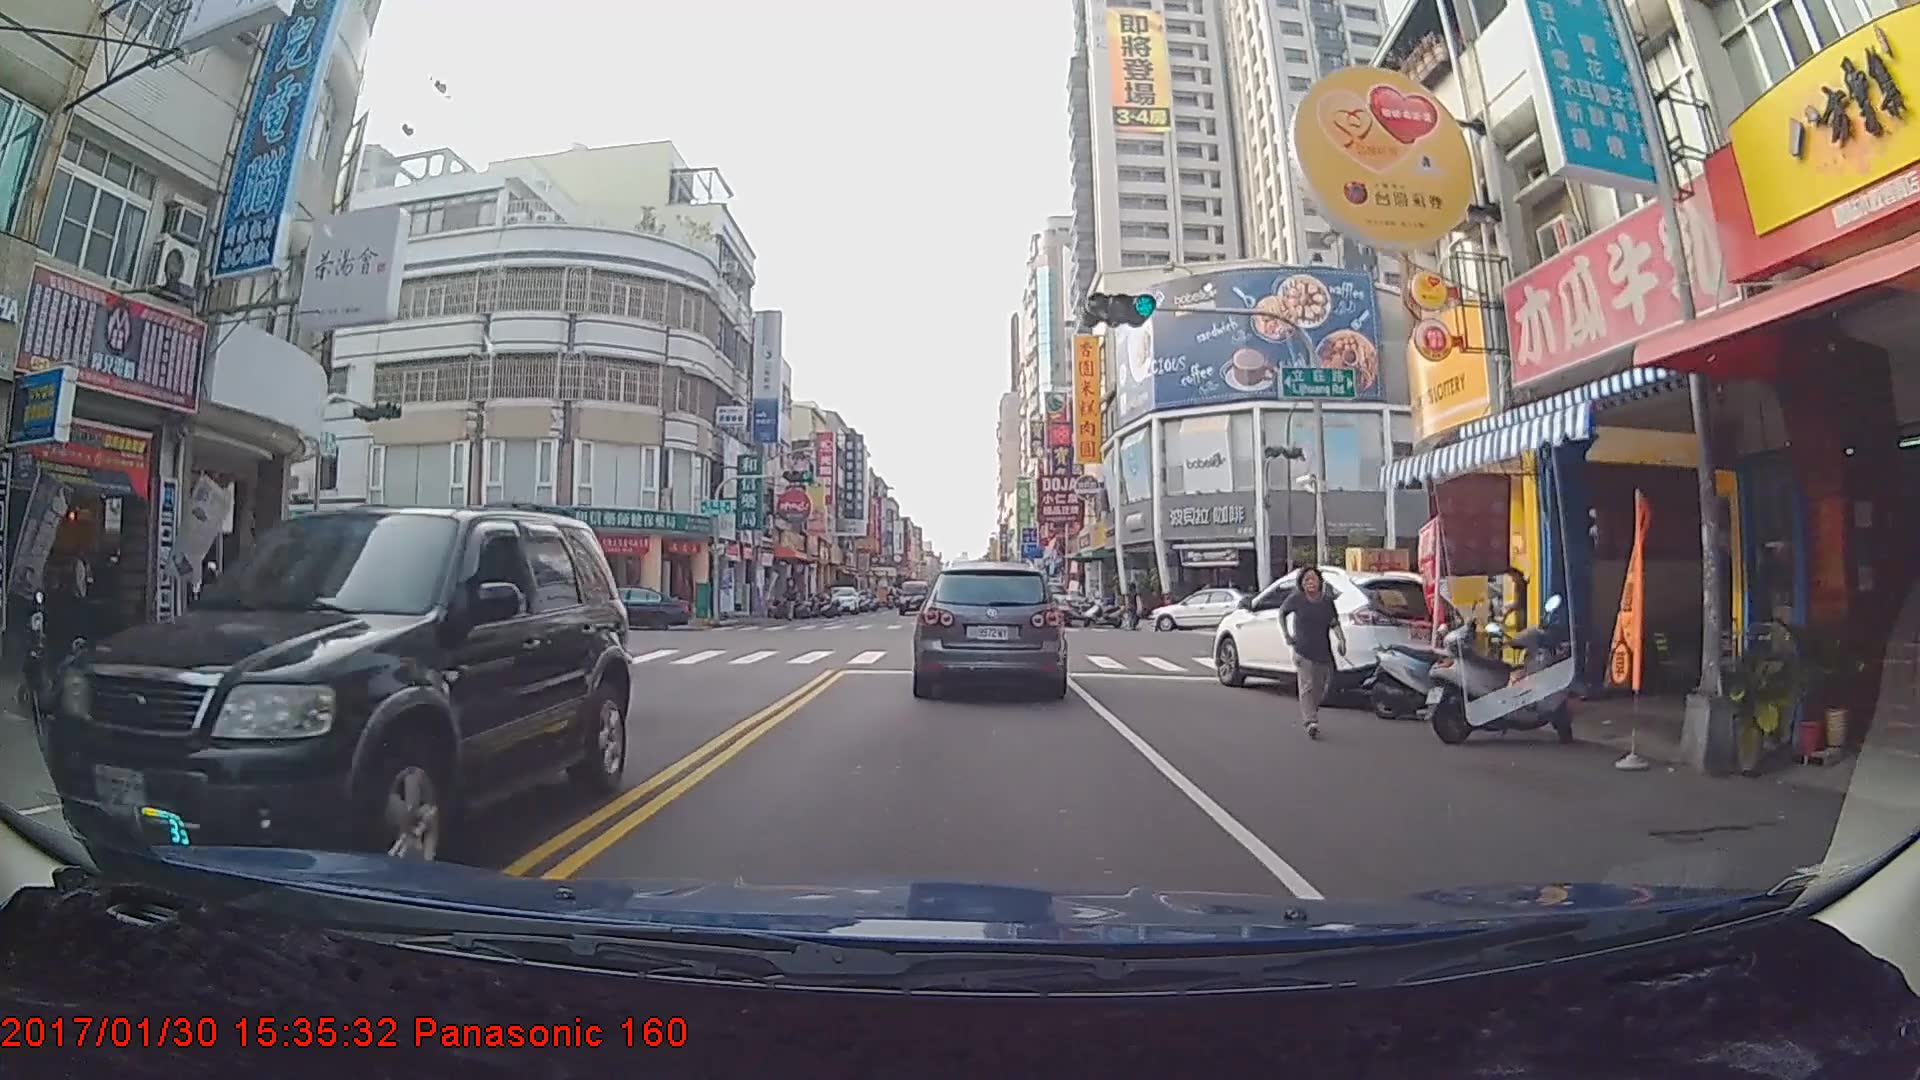pedestrian: (1284, 561, 1352, 742)
vehicle: (76, 502, 630, 895), (1211, 560, 1467, 703), (913, 559, 1066, 699), (552, 584, 687, 633), (1144, 584, 1270, 629), (895, 580, 930, 615), (820, 585, 860, 613)
